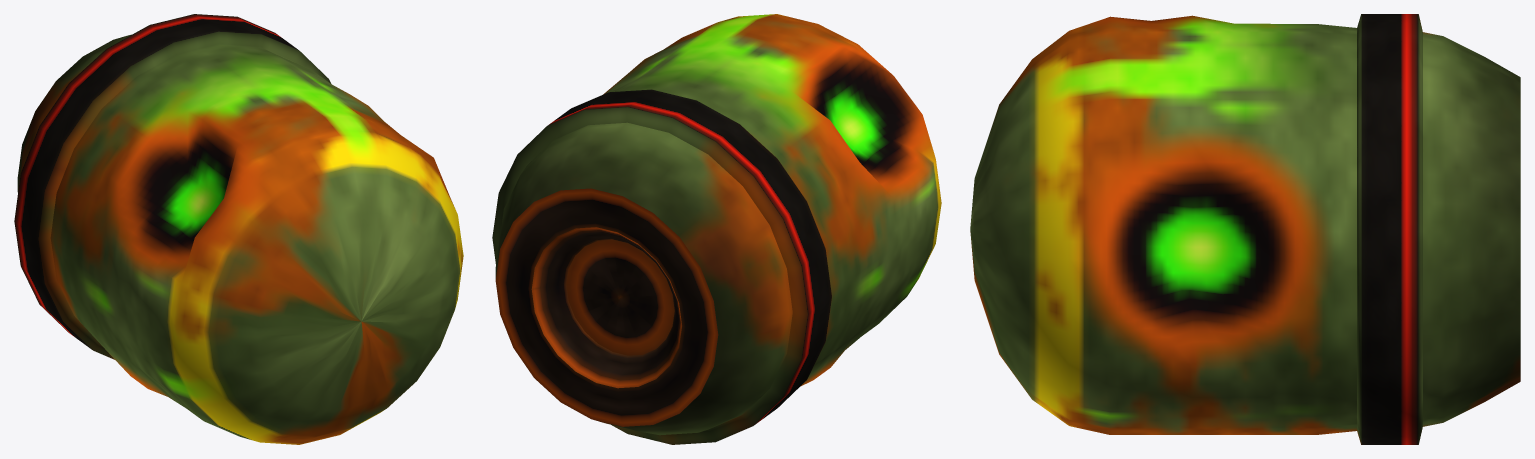
File: acid_round.gltf
3 views of the same model, side by side, from view 1: azimuth 30°, elevation 25°; view 2: azimuth 150°, elevation 25°; view 3: azimuth 270°, elevation 25° (orthographic). The views are drawn at different scales.
Visible parts, largest first — view 1: AcidRound; view 2: AcidRound; view 3: AcidRound.
Part boxes in pixels (box(x1,y1,x2,y2)): AcidRound: box(14, 14, 463, 444); AcidRound: box(492, 14, 941, 444); AcidRound: box(970, 14, 1520, 444).
Size of the model in its own units: 5.24 by 5.19 by 6.69.
1 material, 1 textured.
